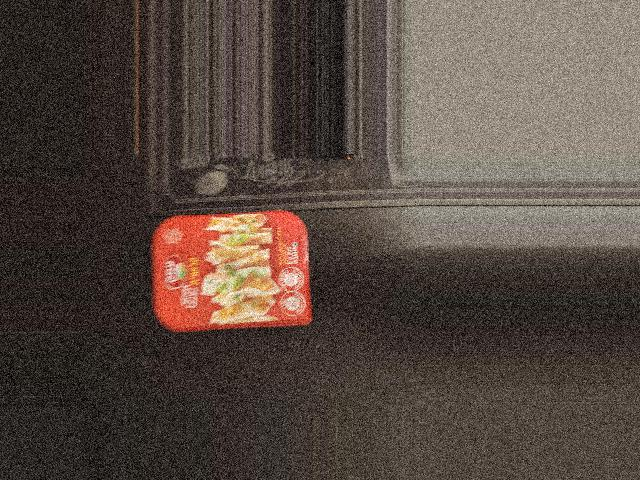cheese: (149, 210, 307, 334)
